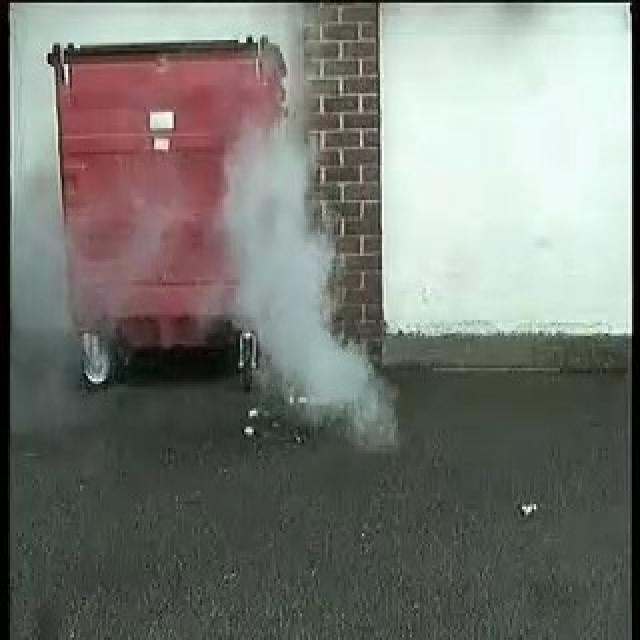smoke: (223, 140, 378, 440)
